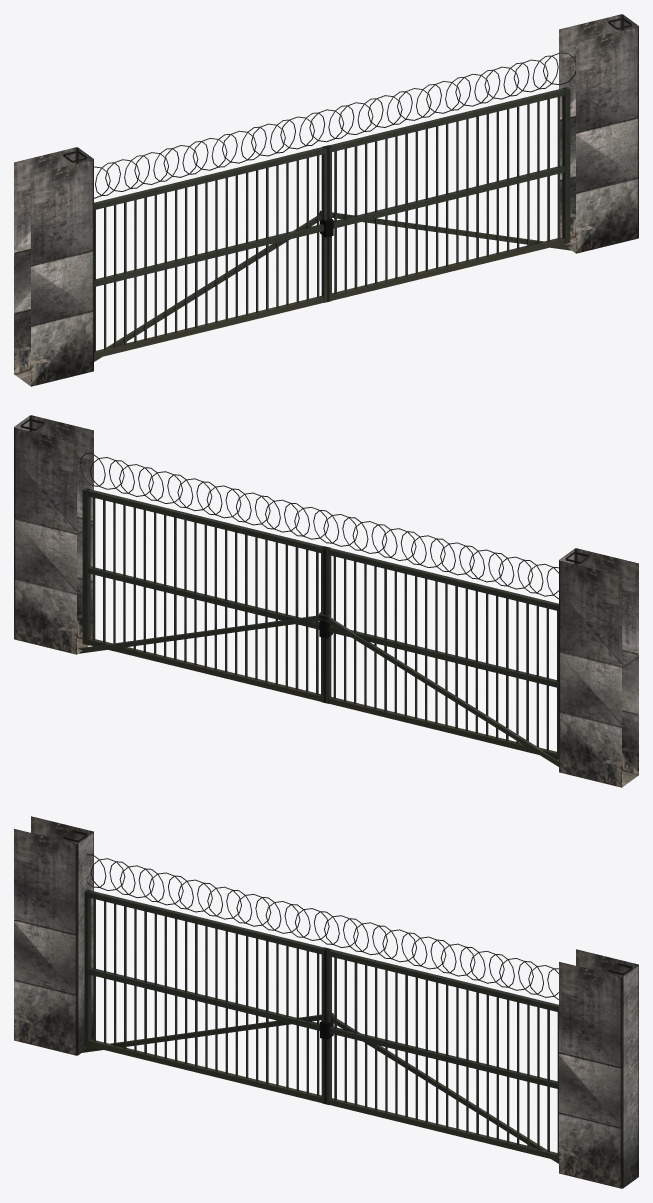
Rendered from hgate.glb.
The picture shows the model from 3 angles, top to bottom: view 1: azimuth 30°, elevation 25°; view 2: azimuth 150°, elevation 25°; view 3: azimuth 330°, elevation 25°; orthographic projection.
Visible parts, largest first — view 1: hull; view 2: hull; view 3: hull.
Part boxes in pixels (<box>): hull: <box>14,14,638,386</box>; hull: <box>14,415,638,787</box>; hull: <box>14,816,638,1188</box>.
Bounding box in the file's own units: 12 × 4.08 × 0.5839.
Materials: 1 (1 with a texture image).
